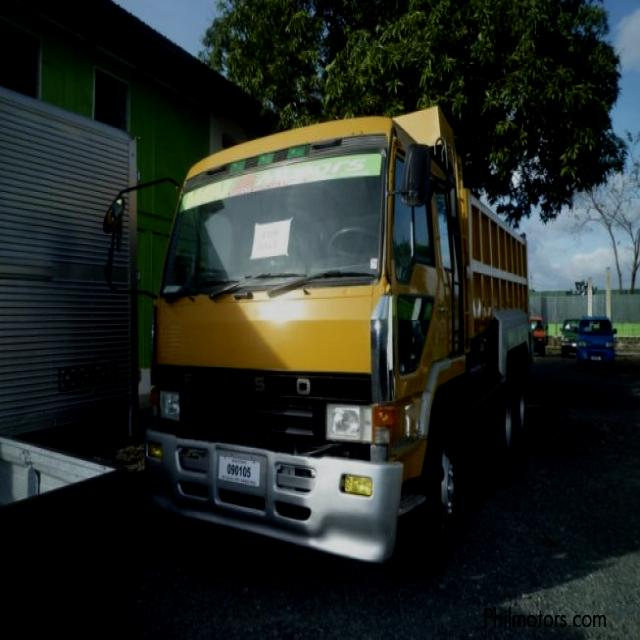truck: (108, 100, 535, 564)
